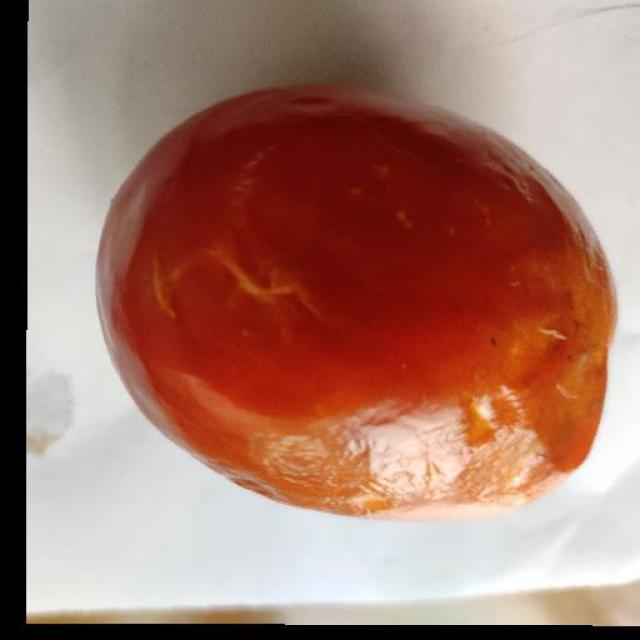Stale_tomato: (94, 101, 640, 478)
